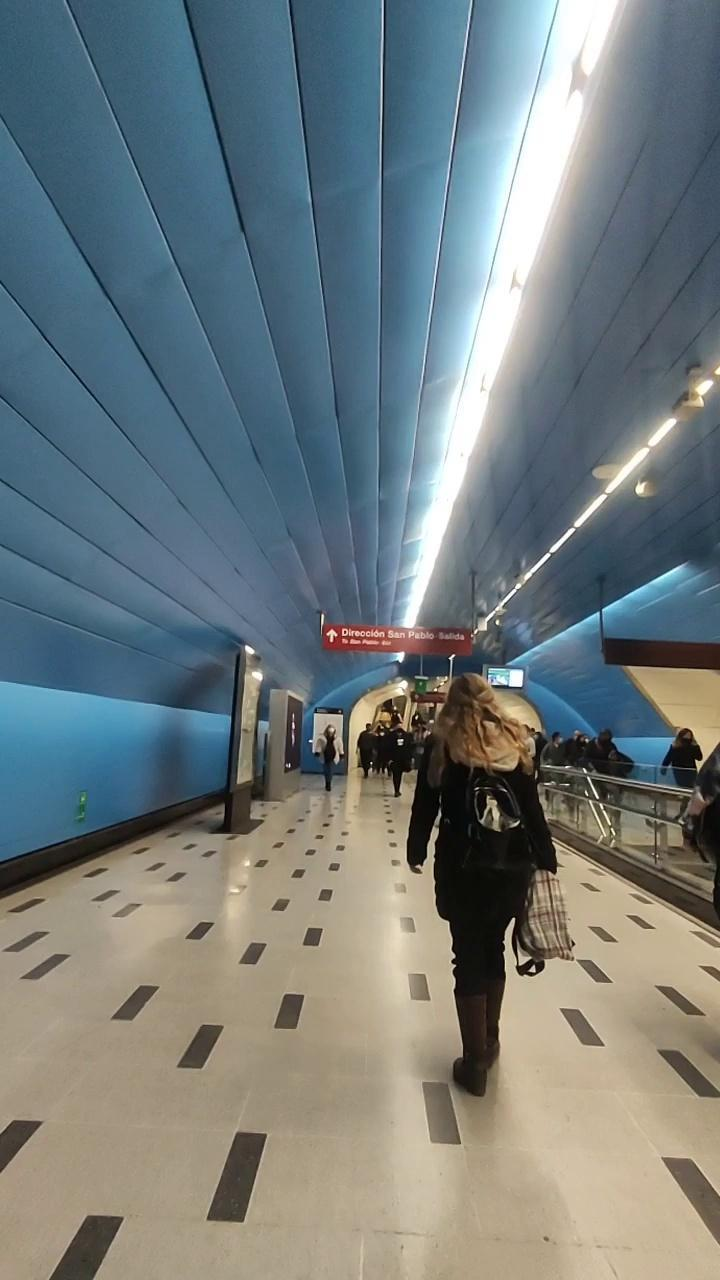up arrow: (322, 628, 342, 646)
